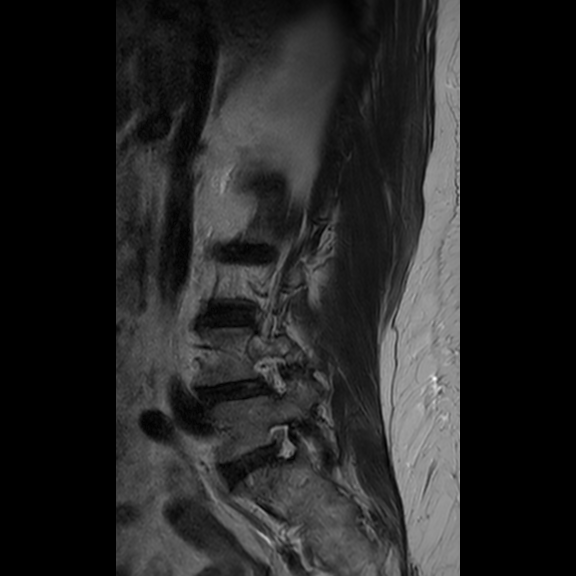RFS0: (260, 413, 311, 472)
